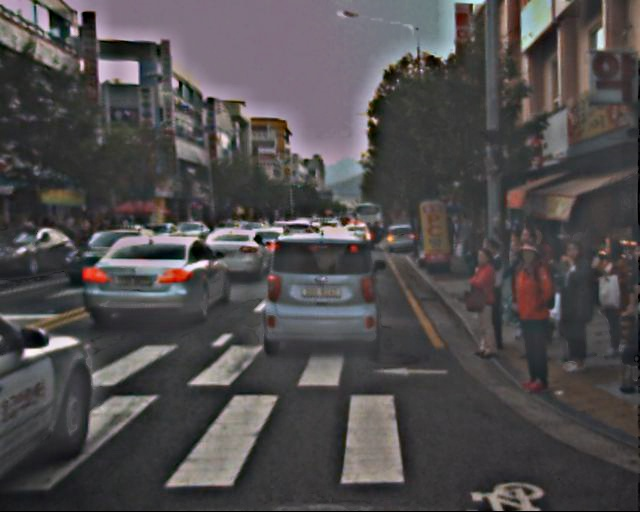person: (502, 246, 559, 385), (550, 242, 598, 360), (504, 226, 548, 334), (474, 237, 518, 344), (464, 249, 506, 352), (591, 235, 633, 338), (519, 226, 560, 327), (446, 214, 474, 254)
